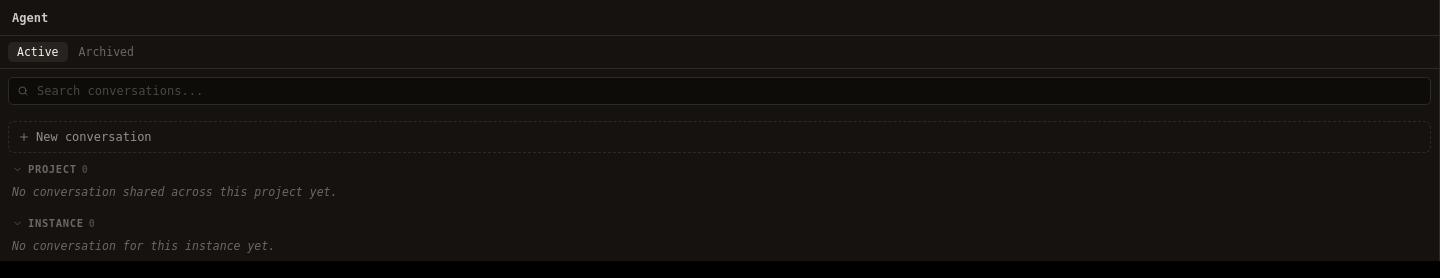
Test: ConversationHistoryPanel › the archived filter › offers a new session on the active list only
The image size is (1440, 278).
Check: the button with class "new-session" is shown, box [8,121,1431,153]
What coordinates should you click on to do the following:
click the button "Archived"
I would click on:
 (106, 52)
Its box is [70,42,143,62].
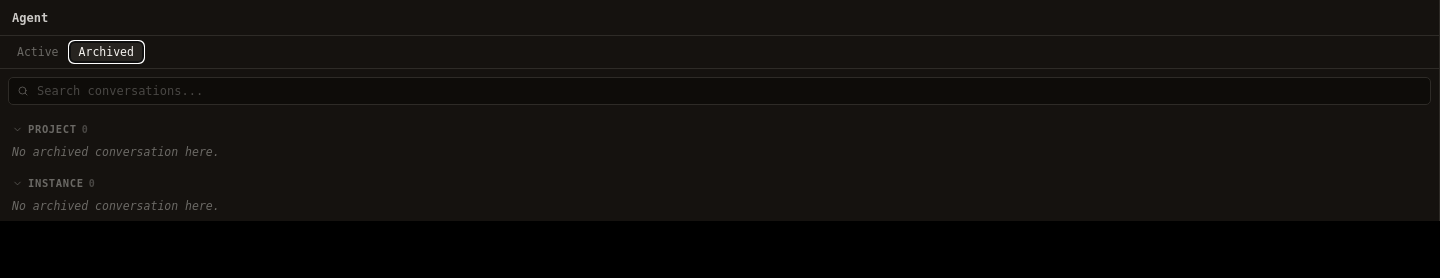
Check: the button with class "new-session" is gone
